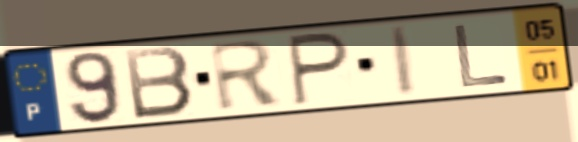9: (65, 49, 124, 126)
B: (120, 44, 197, 123)
I: (387, 23, 420, 99)
L: (450, 22, 512, 91)
P: (285, 29, 354, 109)
R: (206, 37, 288, 114)
